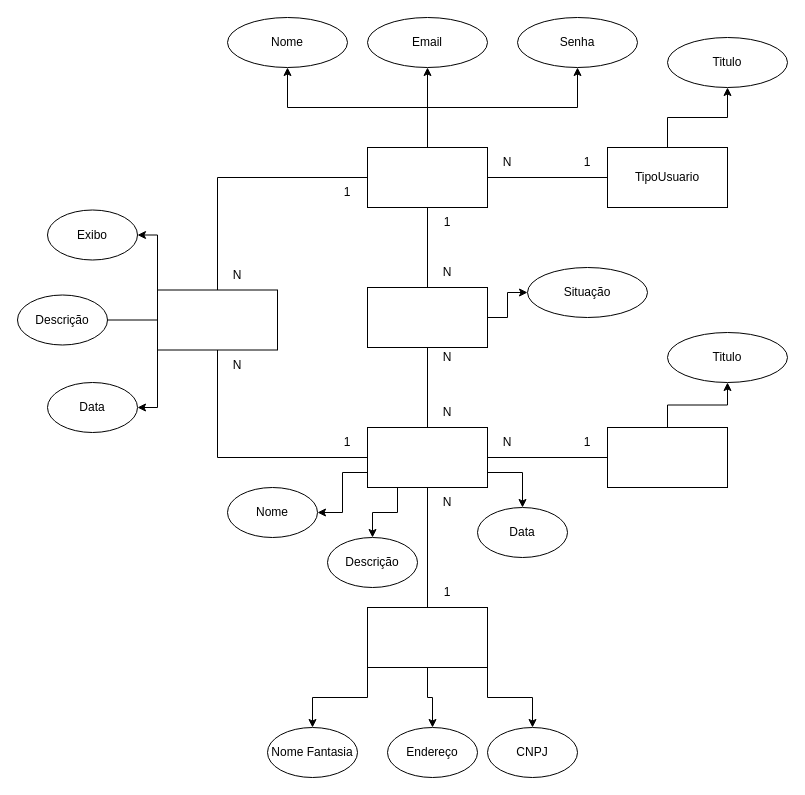
The diagram is 805 pixels wide and 795 high, and some of its shapes have lost their labels. The box of each missing label's shape, as (x1, y1, x2, y2) in pixels:
Coemntario: (156, 289, 278, 350)
Evento: (366, 426, 488, 488)
Instituição: (366, 606, 488, 668)
Presenca: (366, 286, 488, 348)
TipoEvento: (606, 426, 728, 488)
Usuario: (366, 146, 488, 208)
